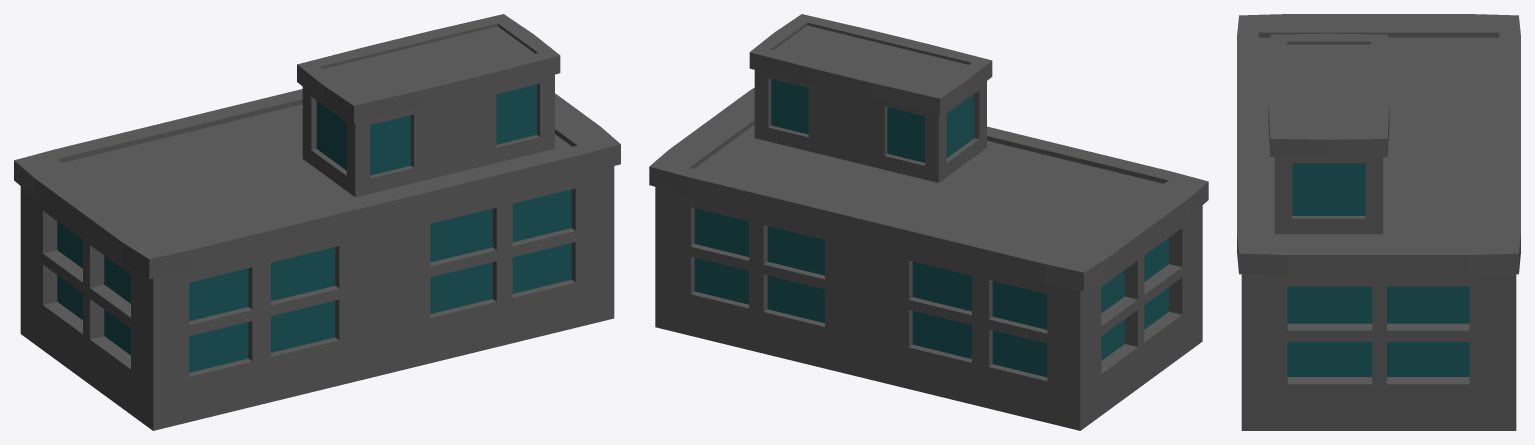
Rendered from building 1_jh_031725.fbx.
The picture shows the model from 3 angles, left to right: view 1: azimuth 30°, elevation 25°; view 2: azimuth 150°, elevation 25°; view 3: azimuth 270°, elevation 25°; orthographic projection. The views are drawn at different scales.
Parts seen in each view (by area): view 1: Cube.014, Cube.068, Cube.066, Cube.069; view 2: Cube.014, Cube.068, Cube.066, Cube.069; view 3: Cube.014, Cube.068, Cube.066, Cube.069.
Boxes of the visible parts, <box> form: Cube.014: <box>14,89,620,430</box>; Cube.068: <box>297,14,560,197</box>; Cube.066: <box>57,189,571,372</box>; Cube.069: <box>316,84,536,175</box>; Cube.014: <box>649,87,1208,430</box>; Cube.068: <box>749,14,992,182</box>; Cube.066: <box>694,208,1168,377</box>; Cube.069: <box>771,79,974,162</box>; Cube.014: <box>1237,14,1520,430</box>; Cube.068: <box>1268,33,1389,234</box>; Cube.066: <box>1287,286,1469,376</box>; Cube.069: <box>1292,163,1365,215</box>.
Bounding box in the file's own units: 1707 × 897 × 850.
